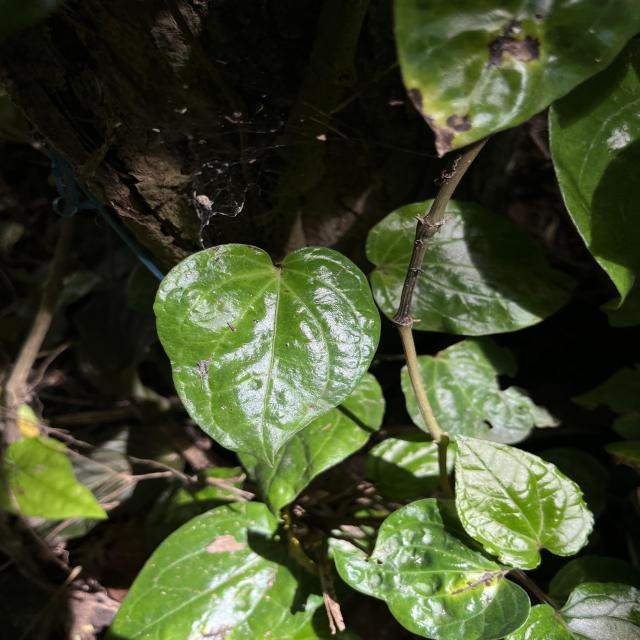Piper betle: (152, 238, 384, 472)
